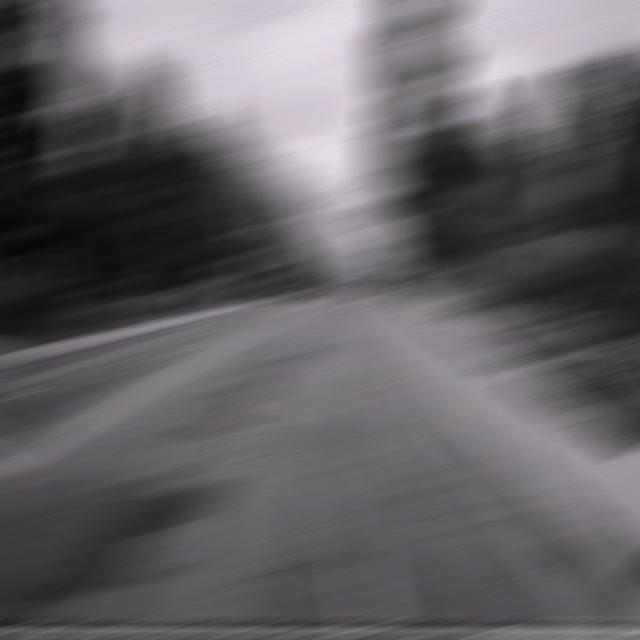speedLimit35: (544, 76, 607, 158)
